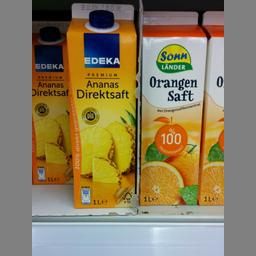juice: (65, 0, 135, 209), (138, 8, 207, 205), (32, 19, 69, 184)
